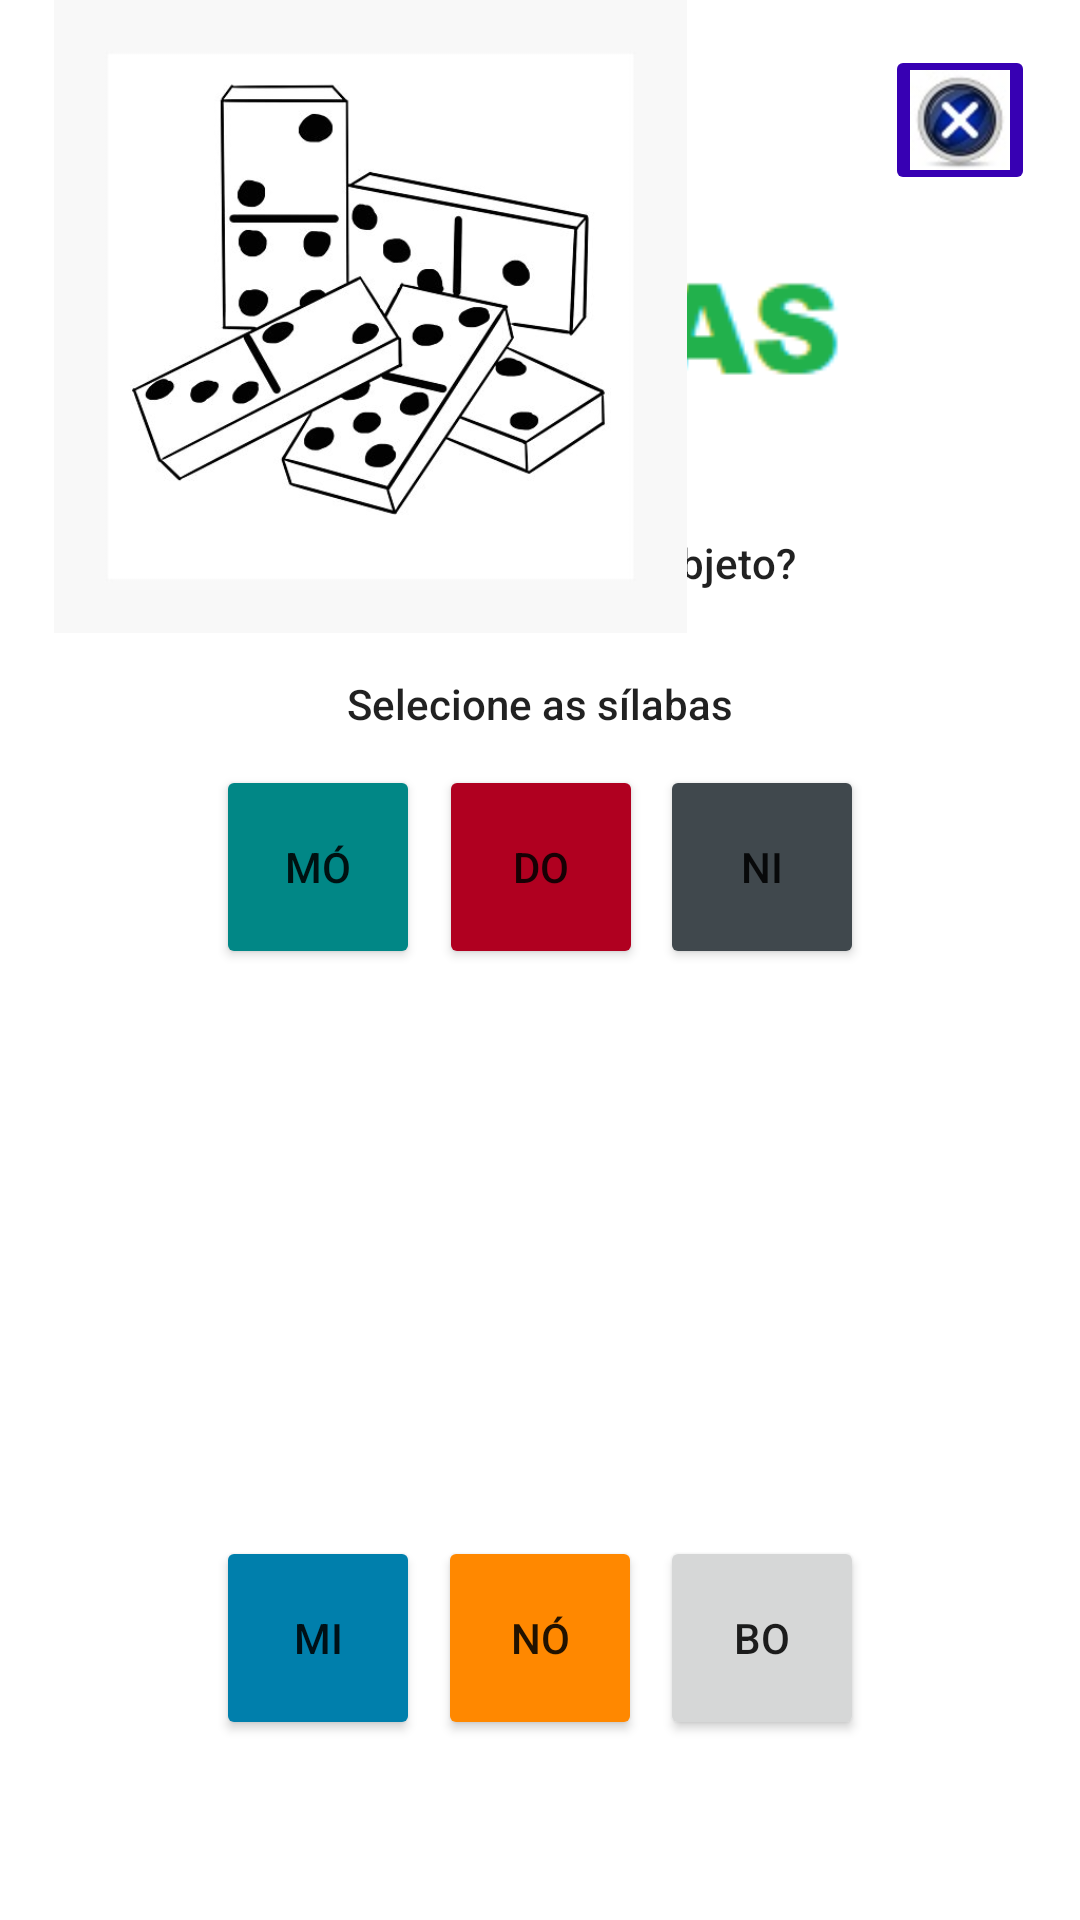

Icons on this 1080*1920 Android screen, each with its box as (x1, y1, x2, y2):
botaofechar: (897, 63, 1023, 177)
